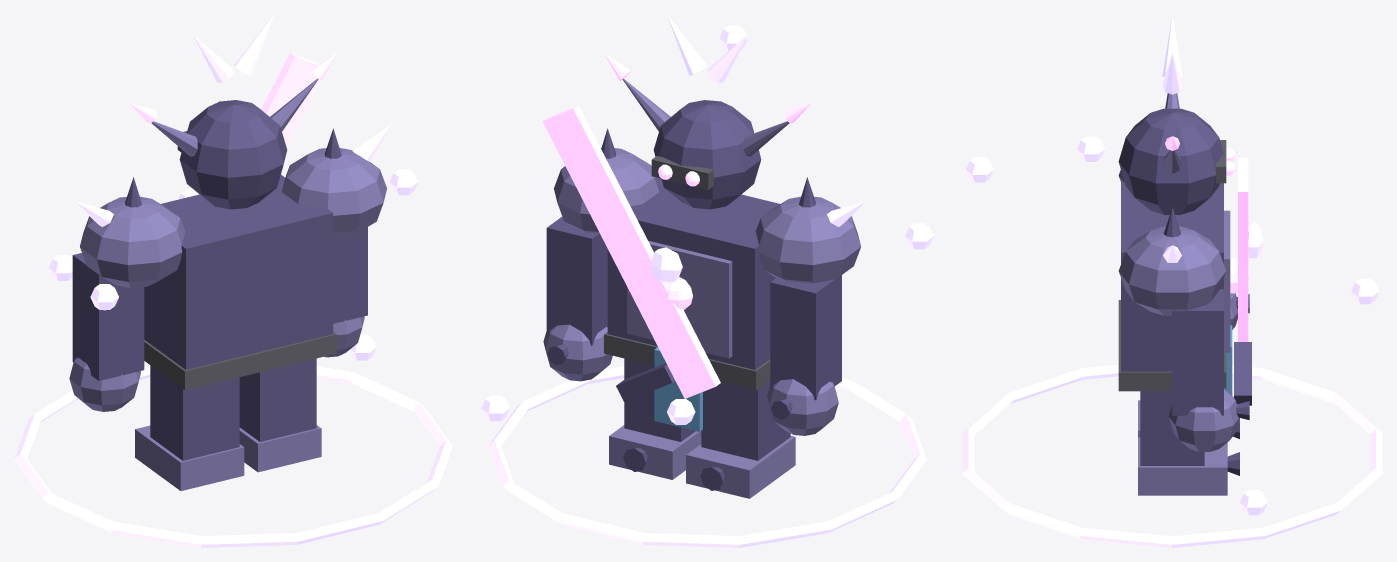
Rendered from evolved_pekka.glb.
3 views of the same model, side by side, from view 1: azimuth 30°, elevation 25°; view 2: azimuth 150°, elevation 25°; view 3: azimuth 270°, elevation 25° (orthographic). The views are drawn at different scales.
Parts seen in each view (by area): view 1: evolved_pekka; view 2: evolved_pekka; view 3: evolved_pekka.
Part boxes in pixels (x1,y1,x2,y2): evolved_pekka: [14, 14, 452, 547]; evolved_pekka: [481, 14, 933, 547]; evolved_pekka: [962, 14, 1382, 547].
Size of the model in its own units: 3.69 by 4.05 by 3.6.
